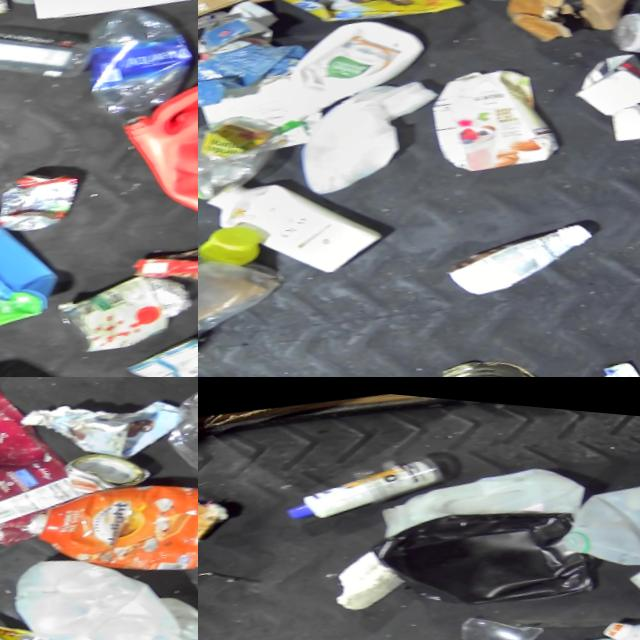can: (59, 251, 198, 353), (0, 152, 94, 232), (64, 433, 158, 493), (428, 336, 565, 377), (128, 316, 198, 377), (0, 601, 61, 640), (622, 541, 640, 640)
milk_jug: (364, 436, 592, 548), (7, 517, 198, 640), (294, 62, 459, 200), (268, 0, 441, 130), (552, 458, 640, 575)
non_white_jug: (364, 473, 606, 625), (21, 447, 198, 596), (107, 27, 198, 234), (0, 137, 82, 361)
plastic_bottle: (81, 0, 198, 113), (0, 0, 101, 99)
